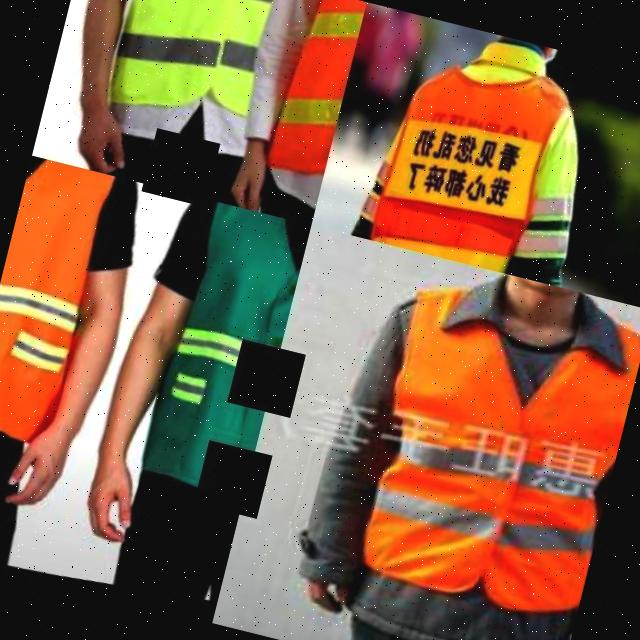vest: (332, 263, 640, 640), (133, 198, 311, 514), (362, 45, 568, 277), (0, 155, 120, 459), (79, 0, 299, 139), (218, 0, 366, 198)
